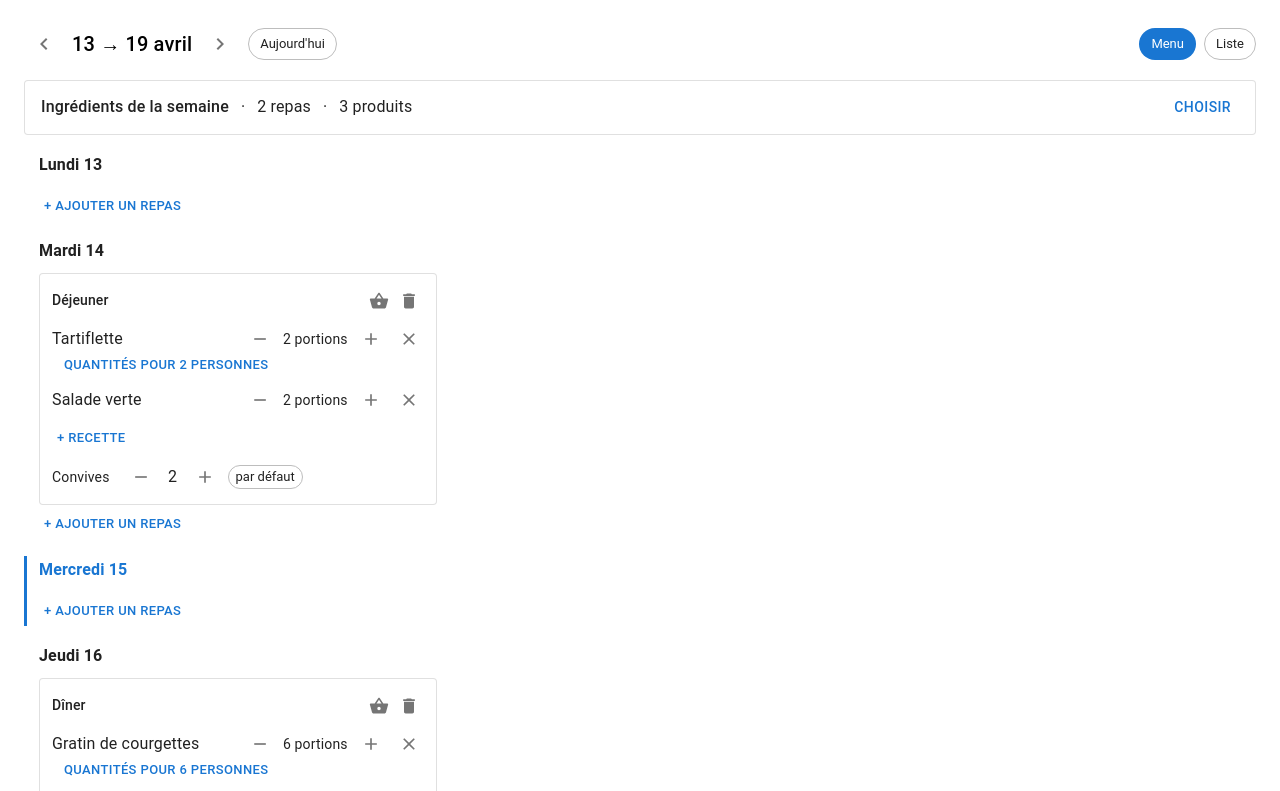
Test: MealsPage — one page, two views of the same week › writes both months when the week straddles two
Check: the element with test id "meal-01LUNCH" is shown, box [39,273,437,505]
What coordinates should you click on to do the following:
click the button named "Semaine suivante"
I would click on:
 (220, 44)
Its box is [200,24,240,64].
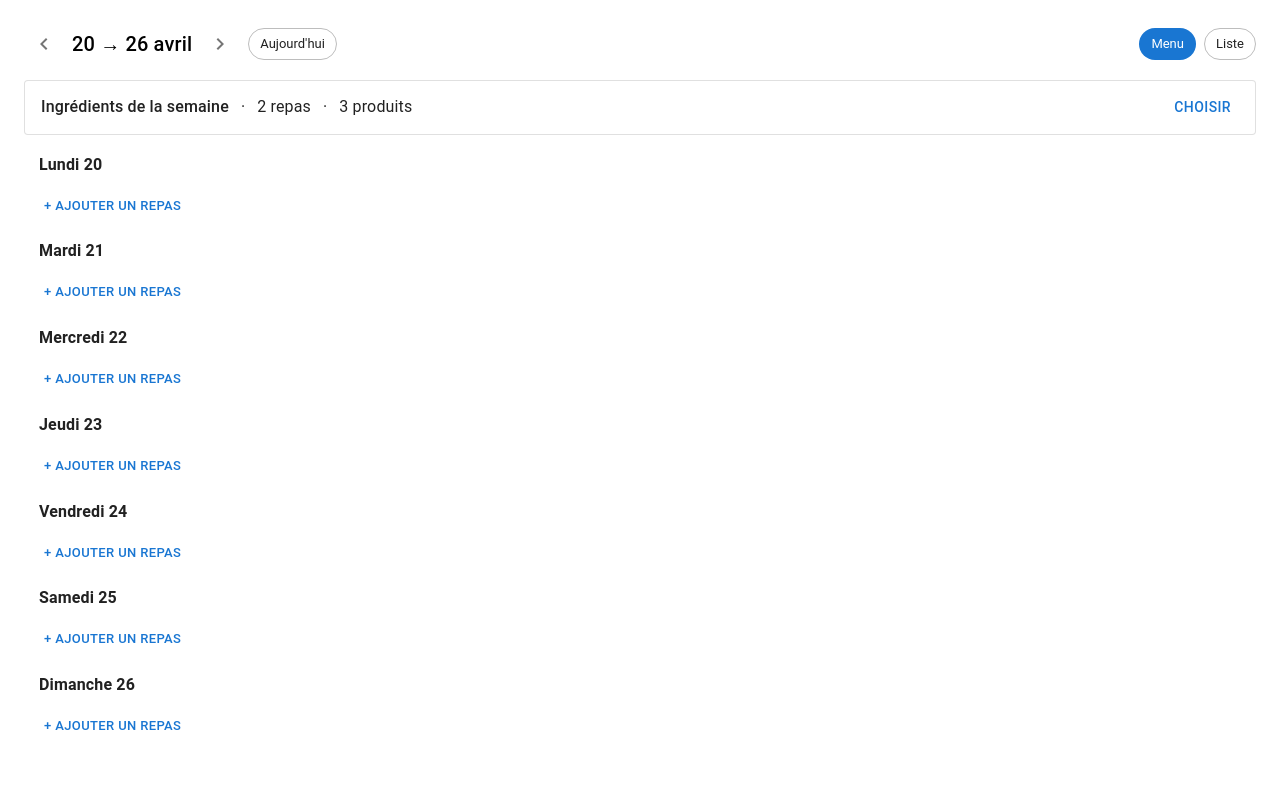
What coordinates should you click on to do the following:
click the button named "Semaine suivante"
I would click on:
 (220, 44)
Its box is [200,24,240,64].
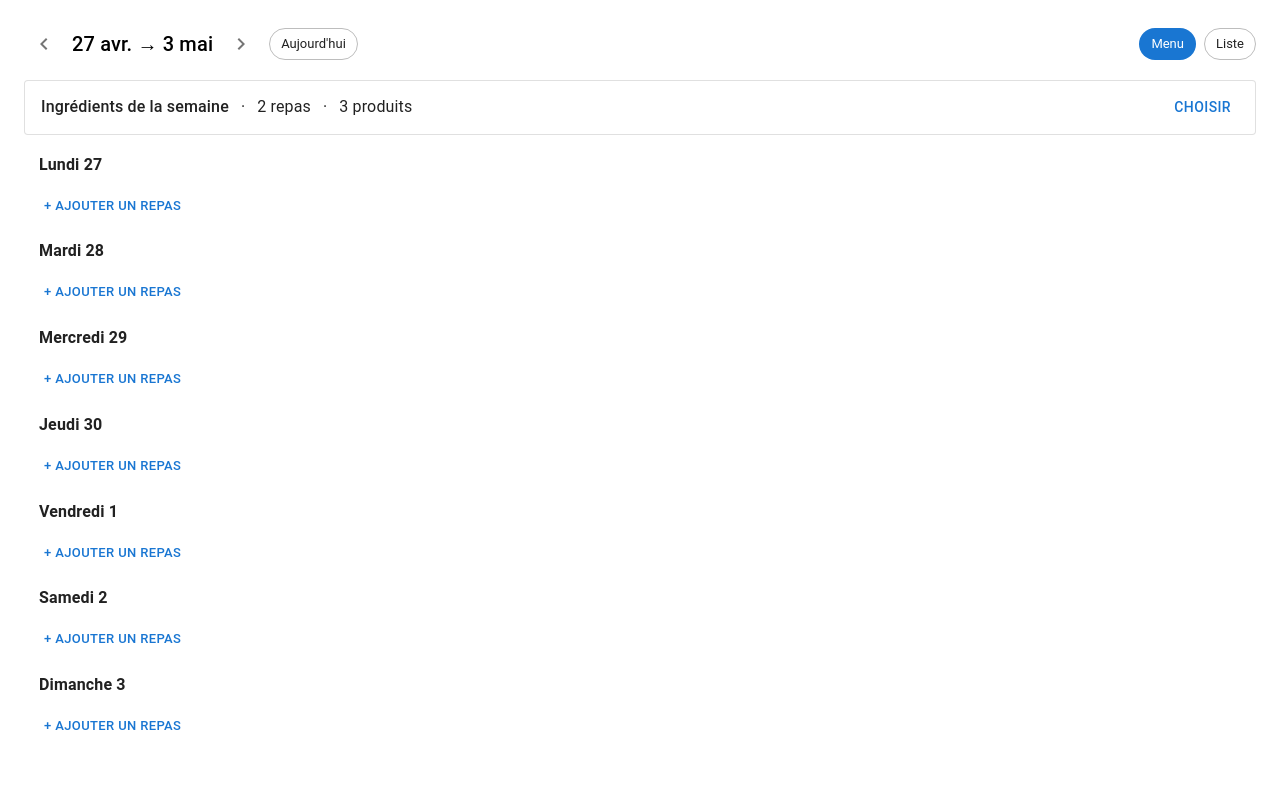
Check: the text "27 avr. → 3 mai" is shown, box [72,28,213,60]
